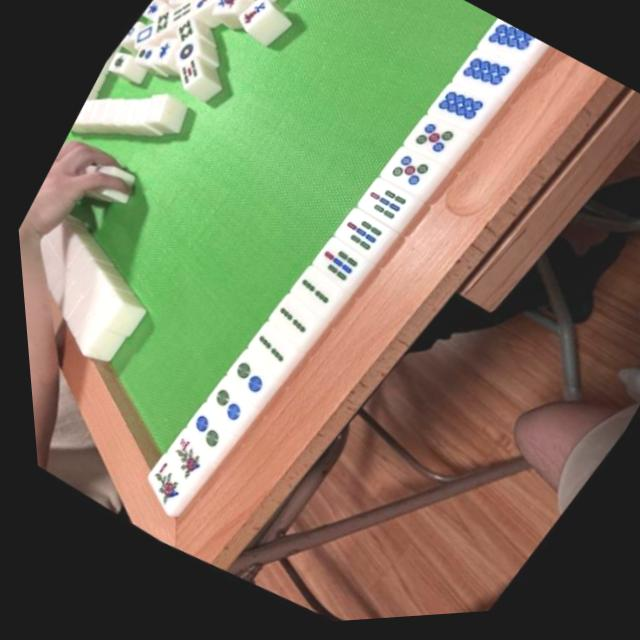bs1: (127, 458, 191, 520)
bs3: (152, 433, 216, 494)
sb2: (238, 330, 298, 385), (282, 273, 341, 328), (259, 303, 317, 355)
sb7: (349, 180, 414, 241), (325, 211, 389, 271), (301, 242, 363, 300)
sd2: (215, 357, 277, 414), (195, 387, 253, 440), (175, 414, 230, 463)
sd5: (374, 149, 435, 207), (400, 118, 460, 176)
sd8: (449, 49, 518, 115), (425, 81, 491, 145), (476, 21, 539, 78)
